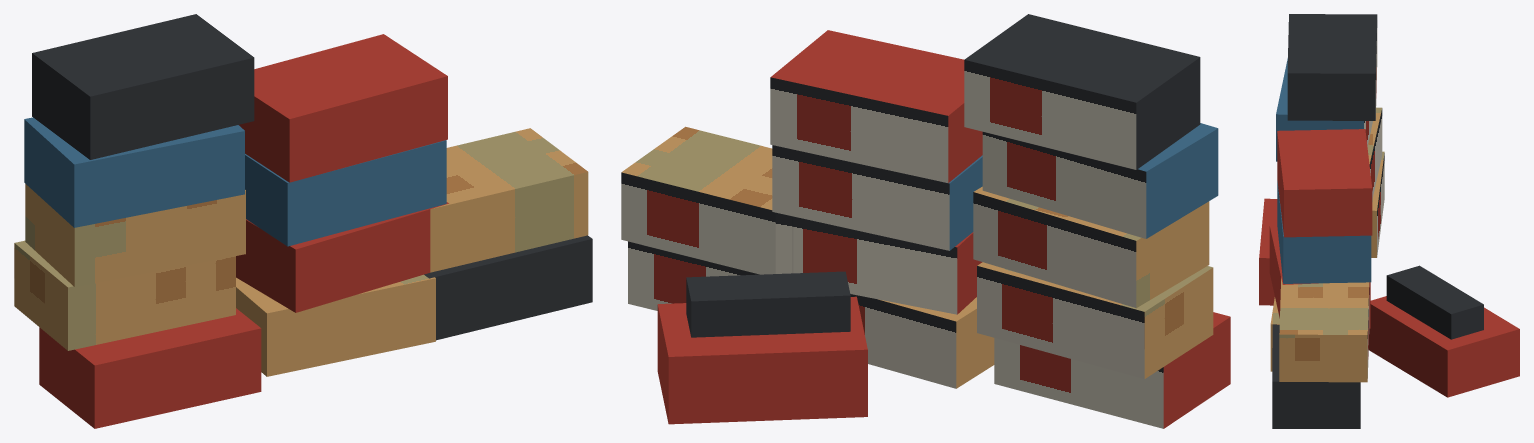
The model's file is stock_shoes.glb.
The picture shows the model from 3 angles, left to right: view 1: azimuth 30°, elevation 25°; view 2: azimuth 150°, elevation 25°; view 3: azimuth 270°, elevation 25°; orthographic projection. The views are drawn at different scales.
Parts seen in each view (by area): view 1: stock_shoes; view 2: stock_shoes; view 3: stock_shoes.
Boxes of the visible parts, x1,y1,x2,y2 form: stock_shoes: [14, 14, 592, 428]; stock_shoes: [621, 14, 1230, 428]; stock_shoes: [1259, 14, 1519, 428].
Size of the model in its own units: 1.09 by 0.65 by 0.6498.
Materials: 5 (5 with a texture image).
